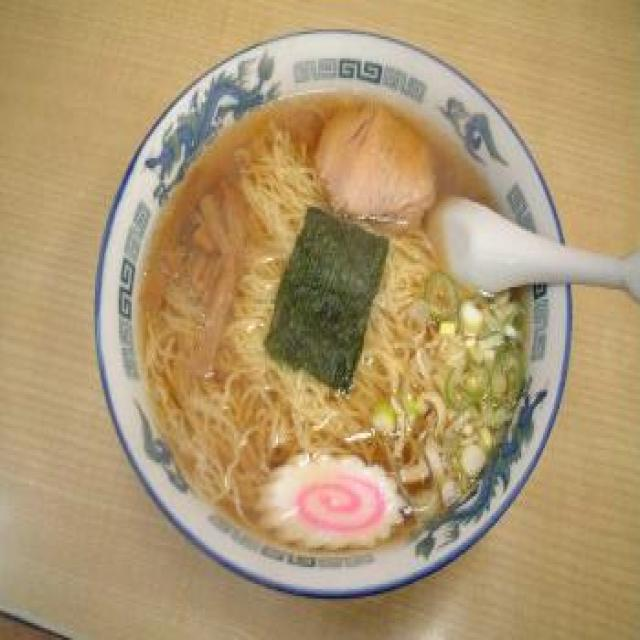面条主食: (92, 29, 572, 599)
